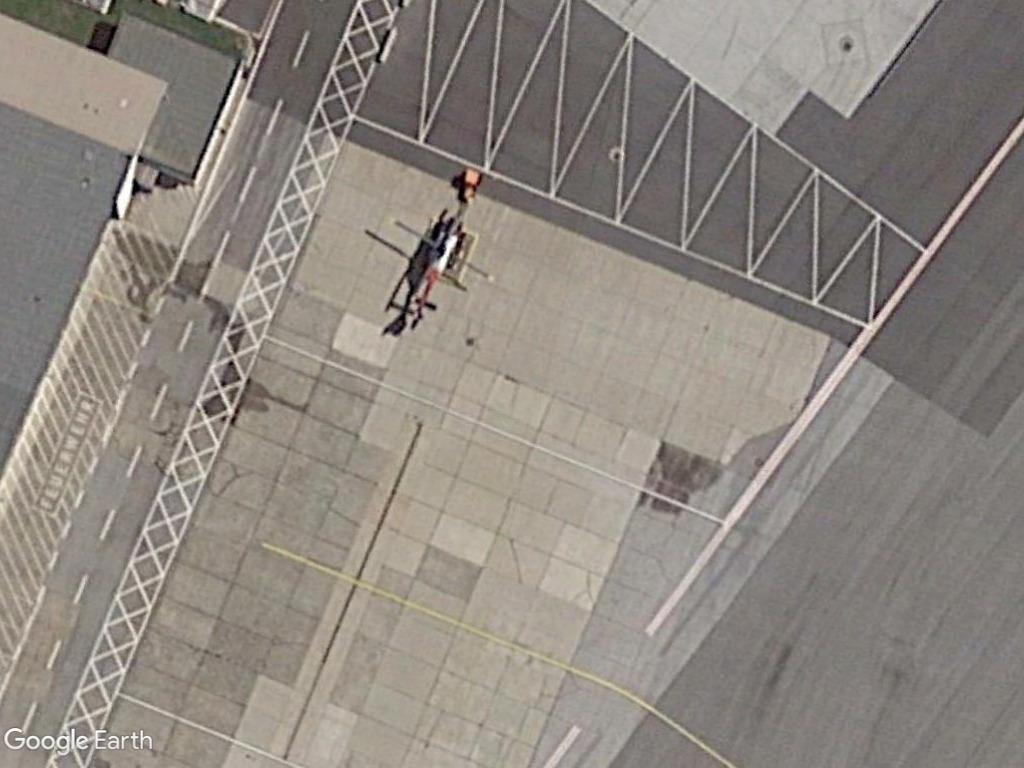helicopter: (384, 193, 502, 340)
